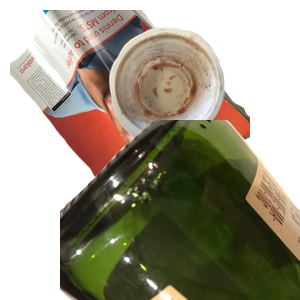glass: (60, 120, 300, 300)
paper: (10, 10, 250, 190)
plastic: (88, 182, 242, 300)
trash: (107, 25, 300, 162)
